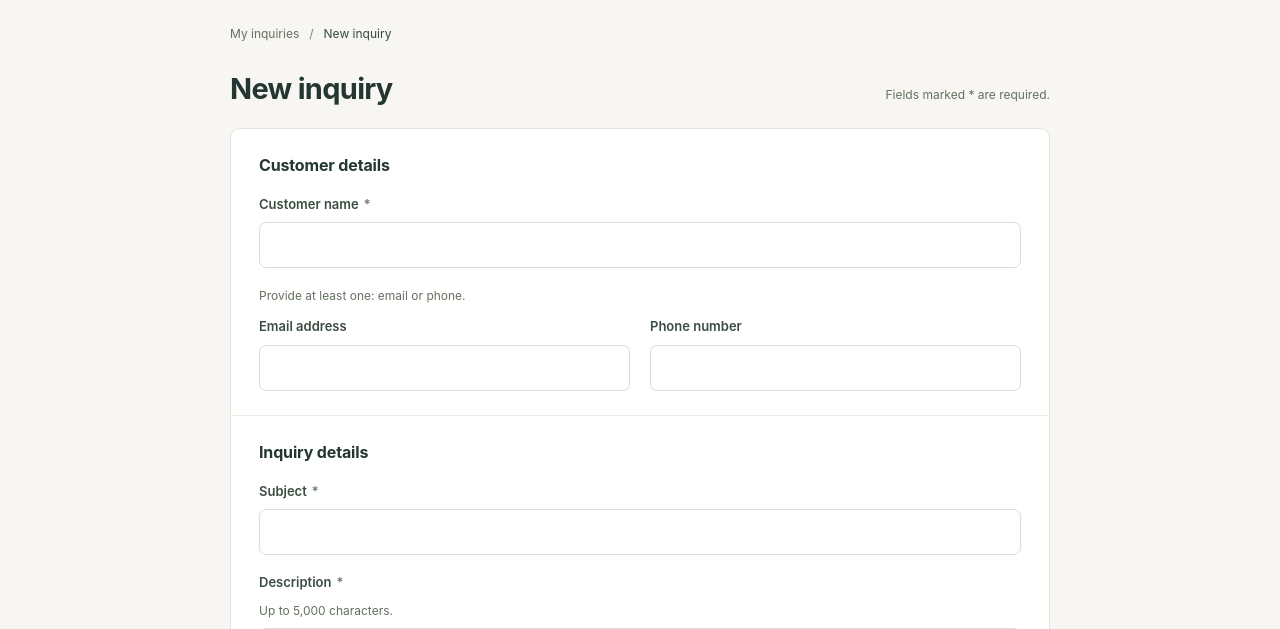
Test case: frontend validation requires a contact method before making a create request
(page scrolled)
Type "Ada Customer" into the field labelled "Customer name".
click(640, 245); type("Ada Customer")  # box [259,222,1021,268]
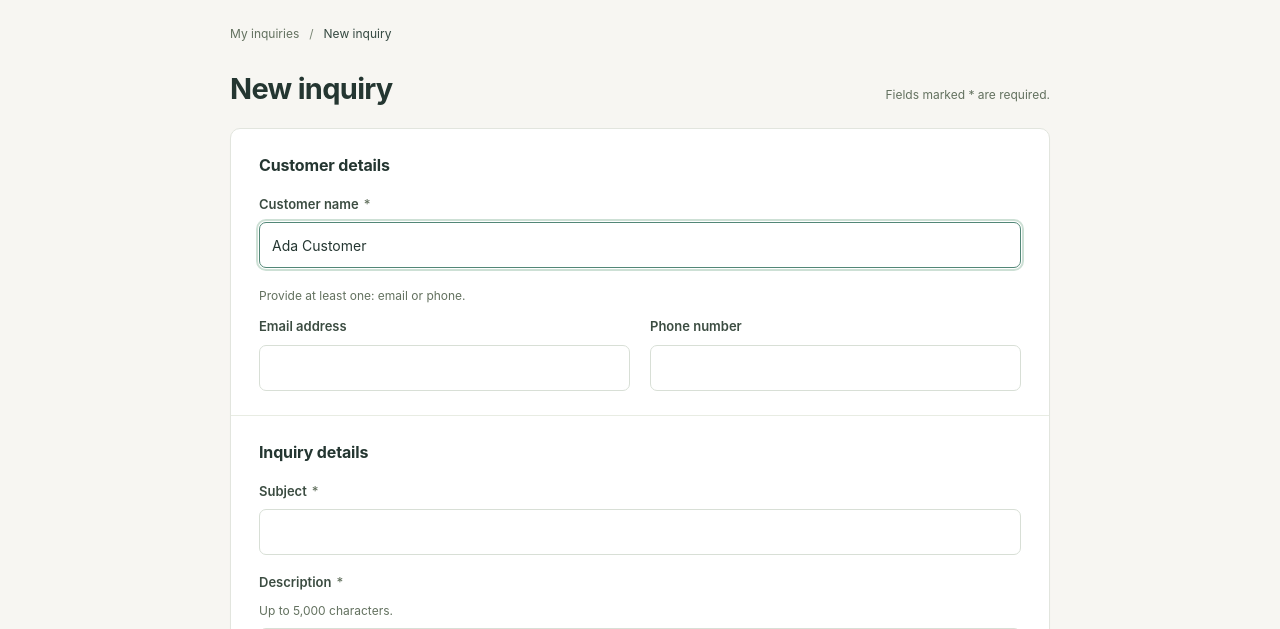
Type "ada@example.test" into the field labelled "Email address".
click(444, 368); type("ada@example.test")  # box [259,345,630,391]
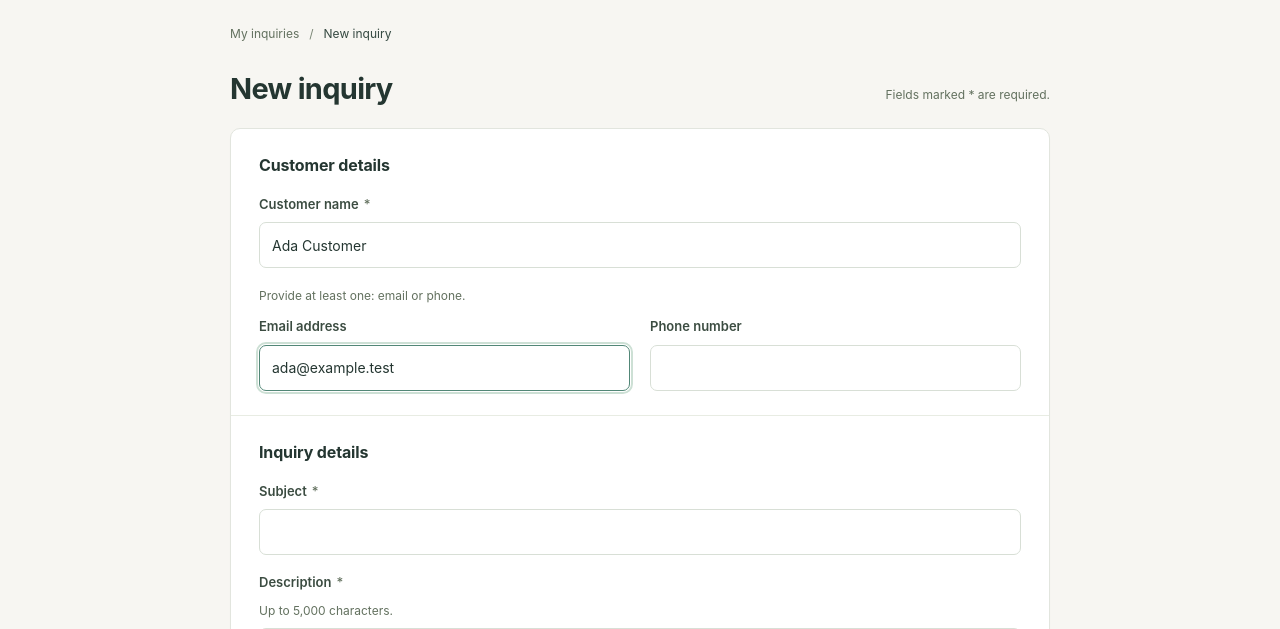
Type "Router issue" into the field labelled "Subject".
click(640, 532); type("Router issue")  # box [259,509,1021,555]
(page scrolled)
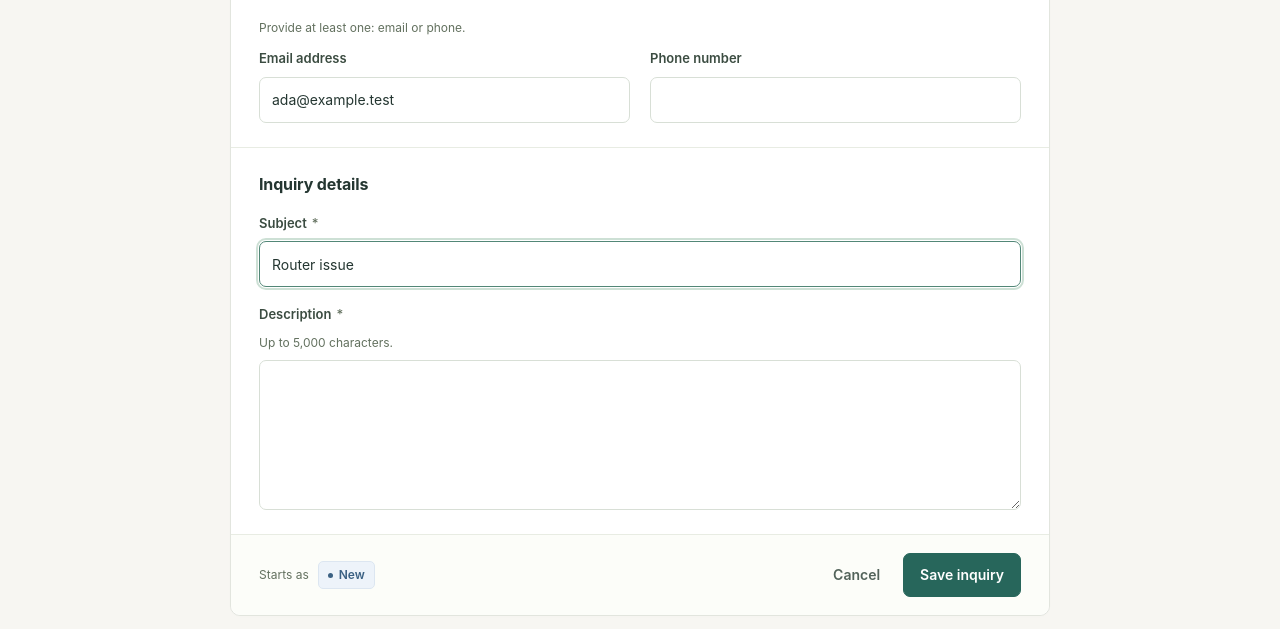
Type "The router drops its connection." into the text box labelled "Description".
click(640, 435); type("The router drops its connection.")  # box [259,360,1021,510]
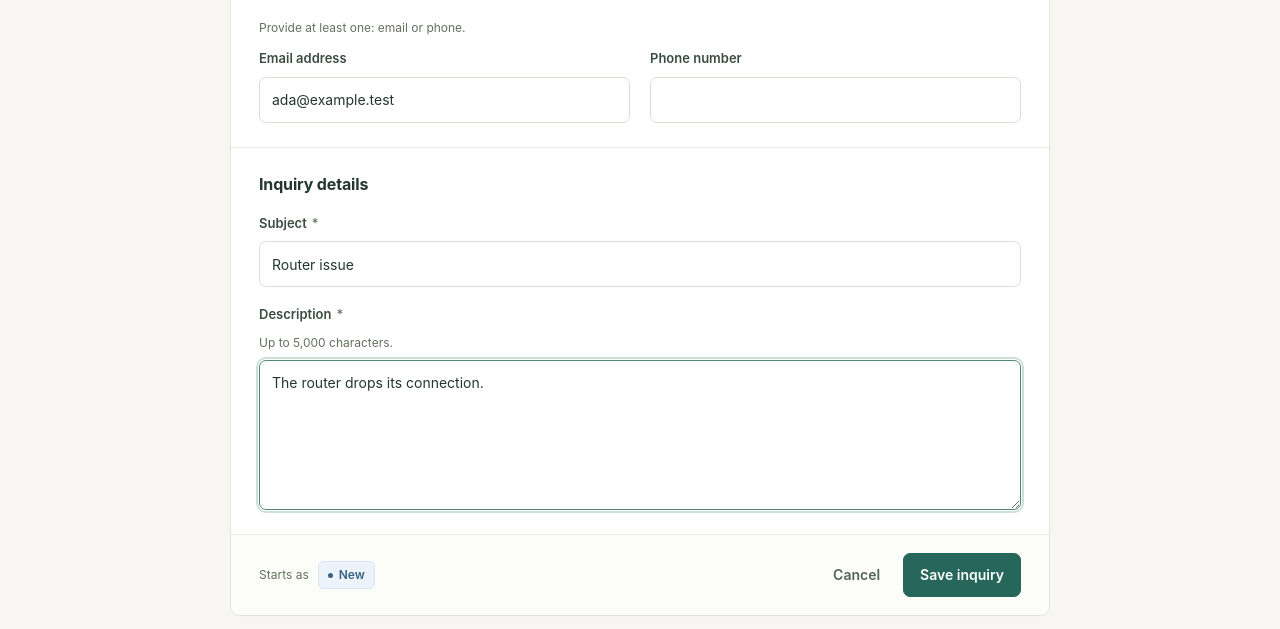
Clear the field labelled "Email address" at (444, 100), box [259,77,630,123]
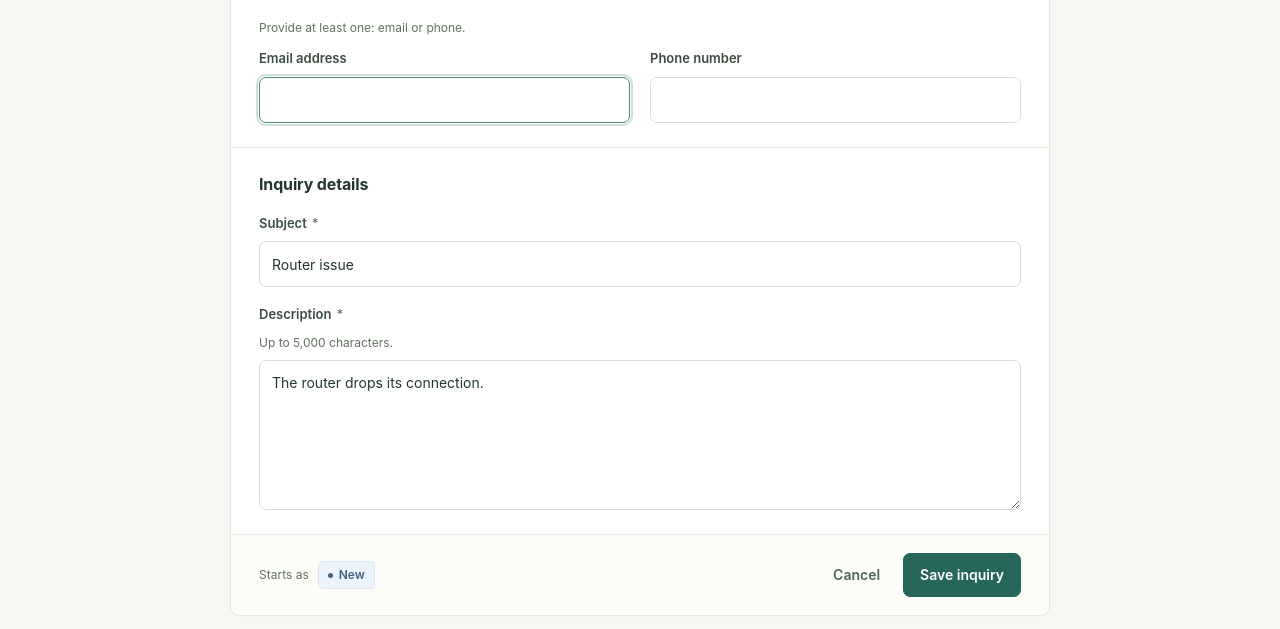
Click the button "Save inquiry".
click(962, 575)  # box [903,553,1021,597]
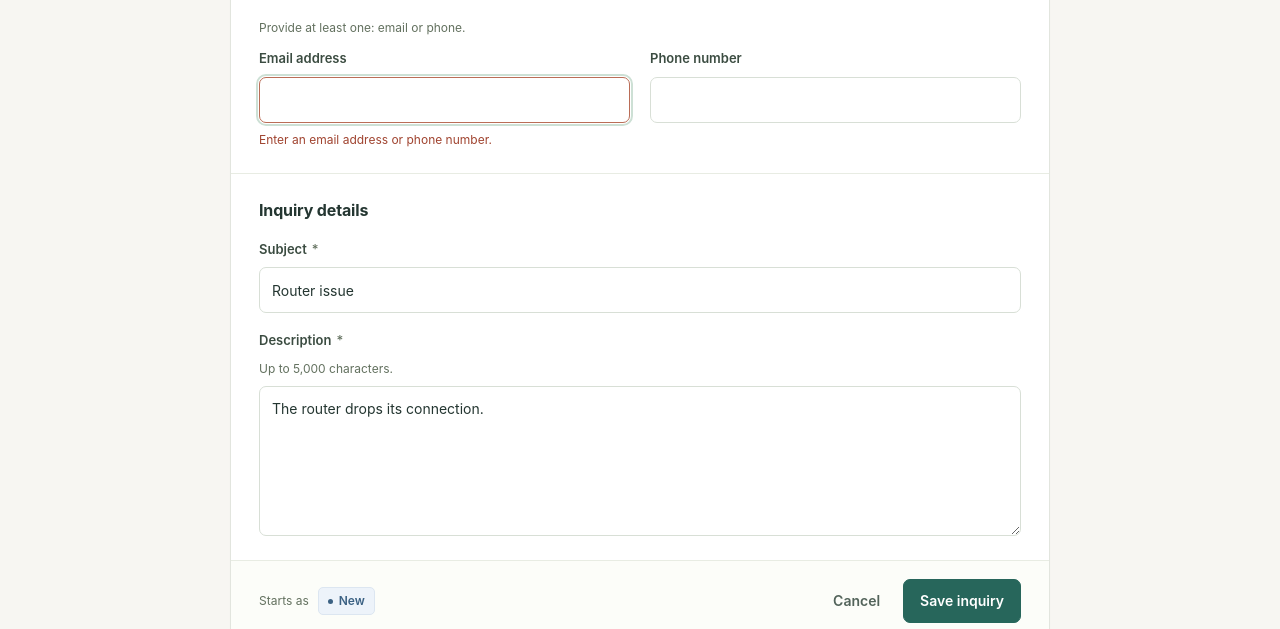
Expected: the text "Enter an email address or phone number." is shown, [259,132,492,147]
